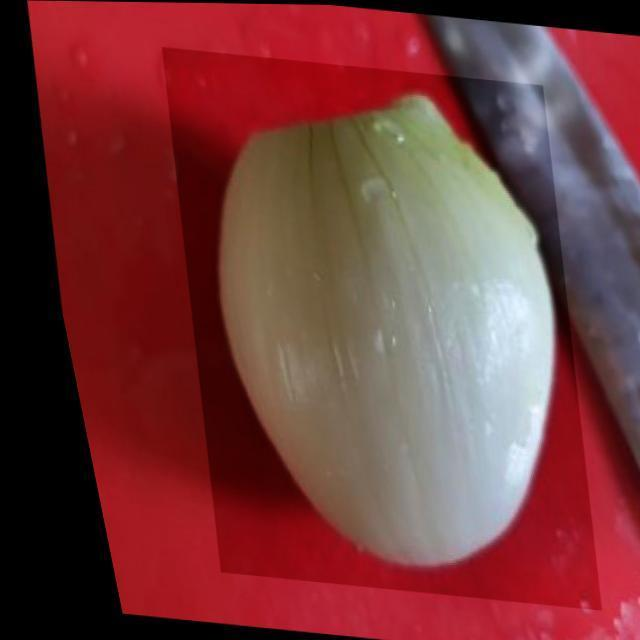Onion: (114, 46, 624, 610)
